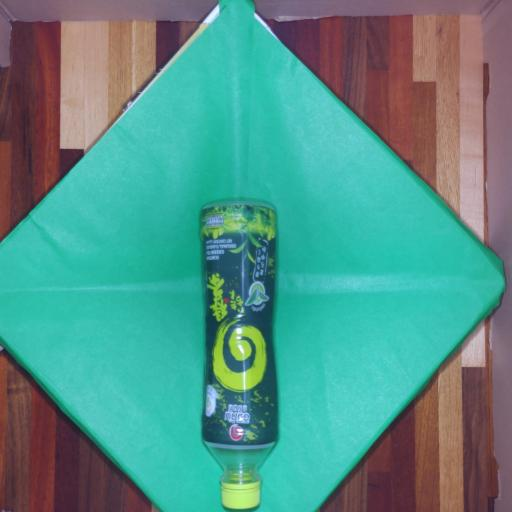bottle: (201, 203, 277, 509)
